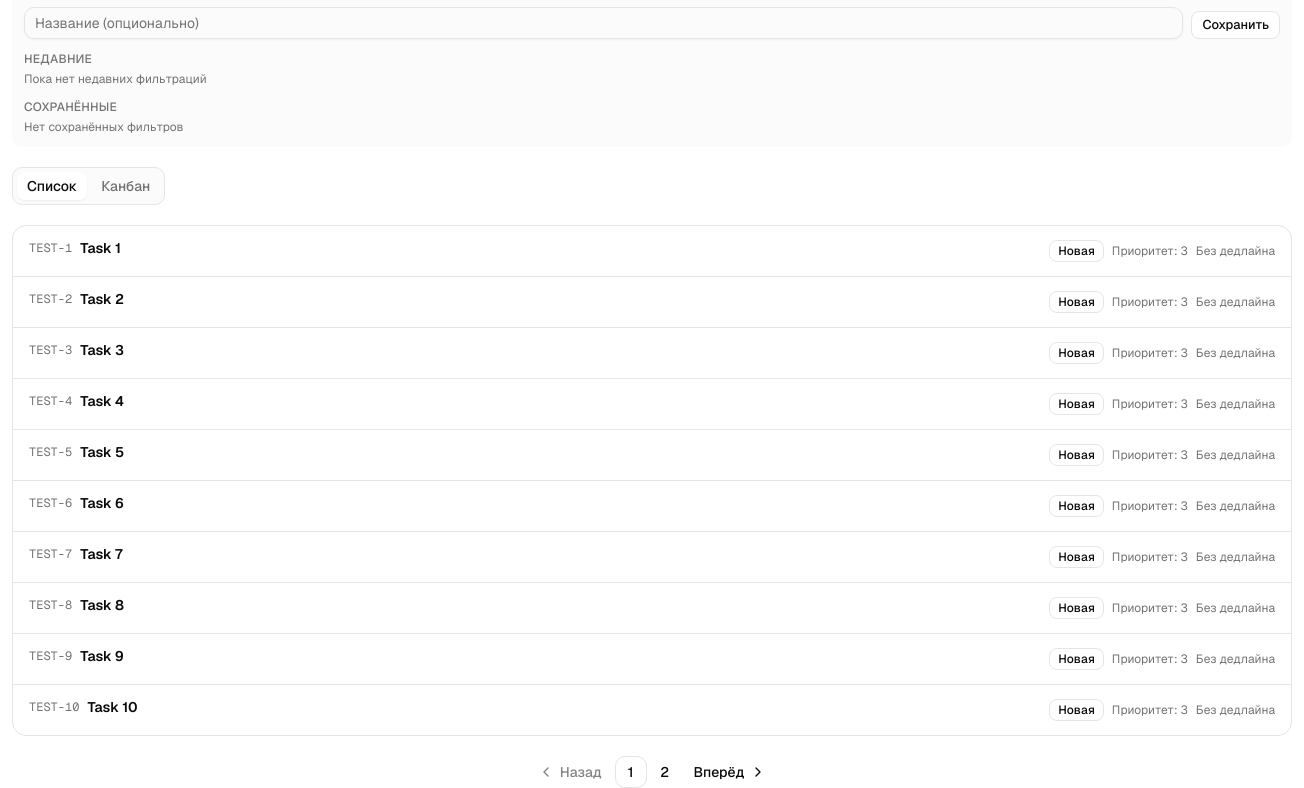
Test: TaskList › paginates long lists and moves to the next page
(page scrolled)
Expected: the text "Task 11" is not shown
Click the button with aria-label "Следующая страница": click(728, 772) [683, 756, 773, 787]
(page scrolled)
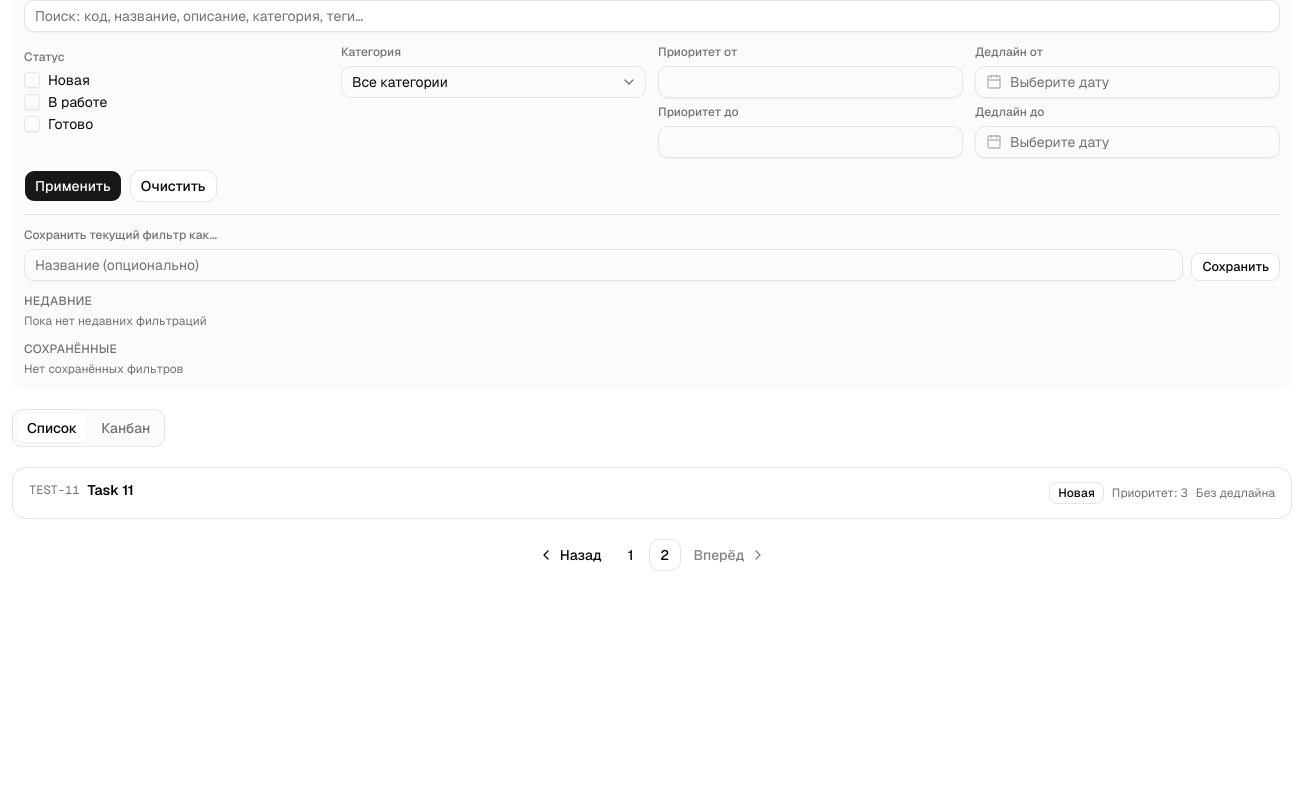
Now the number of buttons with test id "task-row" is 1, box [13, 468, 1291, 518]
Now the text "Task 11" is shown, box [87, 480, 134, 500]
